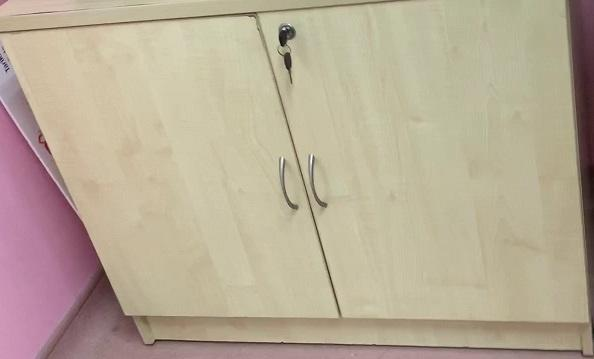cabinet_door: (301, 2, 588, 318), (22, 11, 295, 315)
handle: (275, 155, 300, 214), (306, 151, 330, 210)
